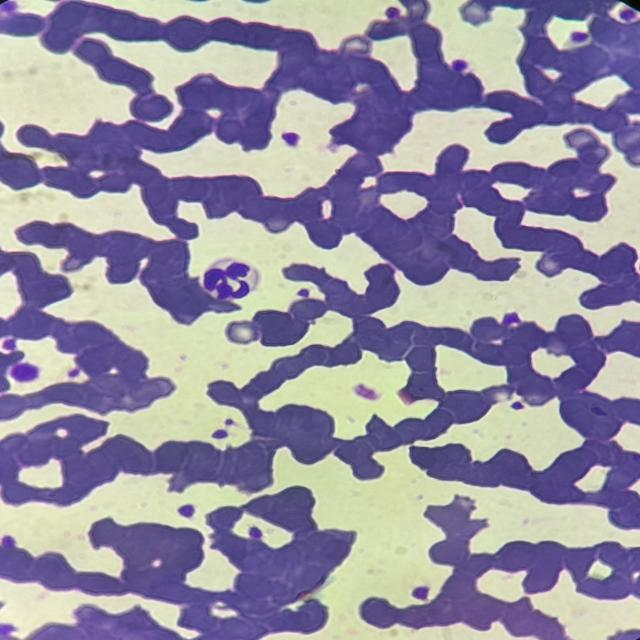Neutrofilo: (198, 254, 262, 304)
